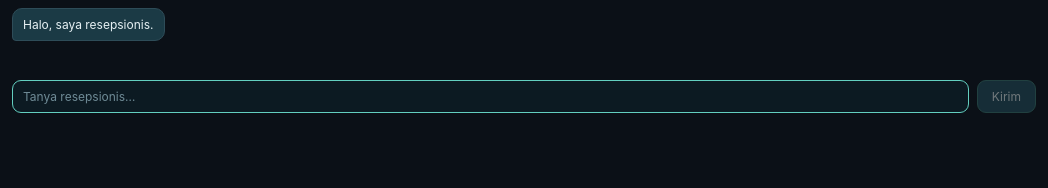
Test: CharacterChat › sends the transcript and renders the AI answer
Type "Bisa konsultasi di sini?" into the field labelled "Tanya resepsionis…" at (490, 96), box [12, 80, 969, 113]
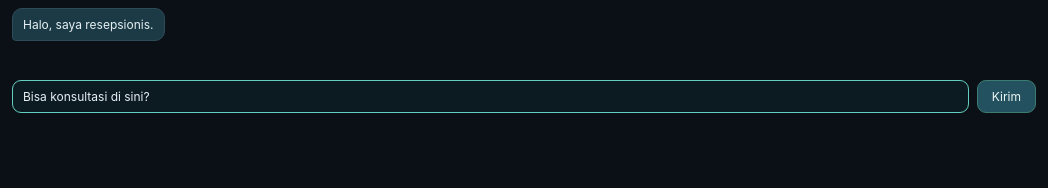
Click the button "Kirim" at (1006, 96), box [977, 80, 1036, 113]
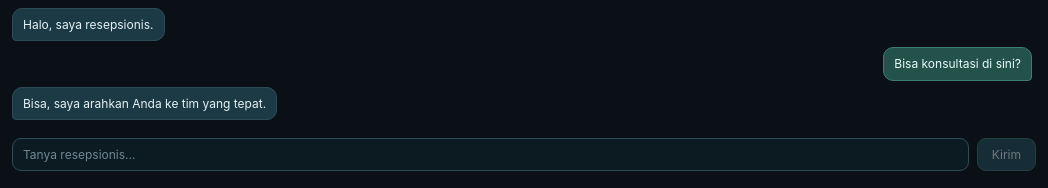
Result: the text "Bisa, saya arahkan Anda ke tim yang tepat." is shown at [12, 87, 277, 120]
Result: the text "Bisa konsultasi di sini?" is shown at [883, 47, 1032, 81]
